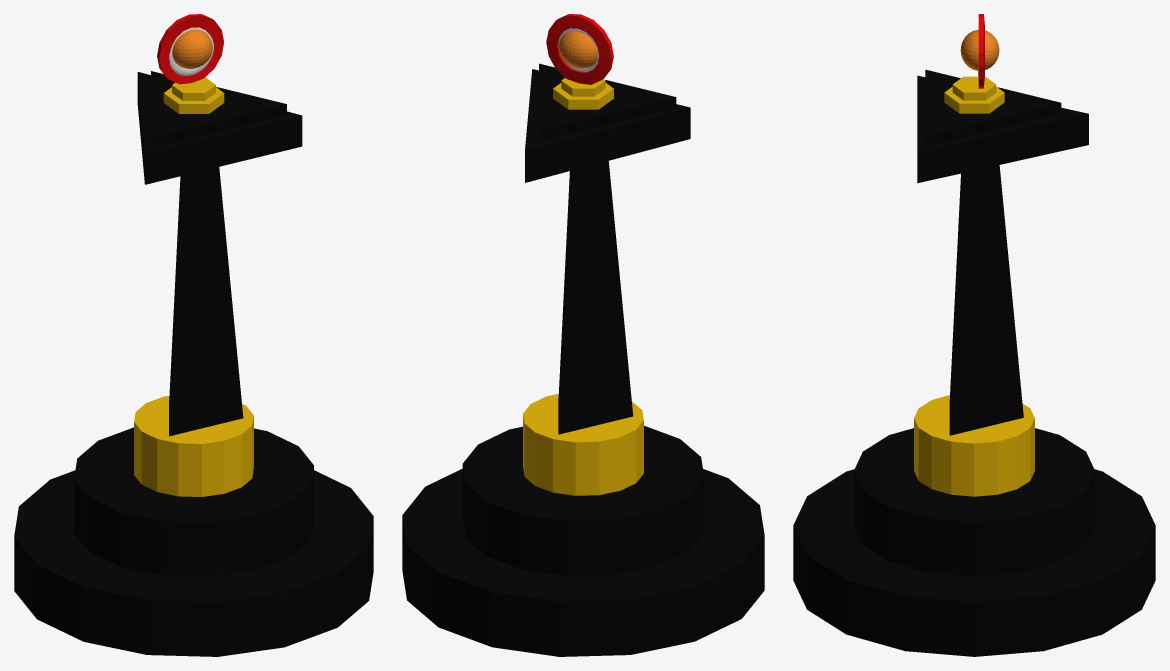
Rendered from tour_de_l_enfer.fbx.
The picture shows the model from 3 angles, left to right: view 1: azimuth 30°, elevation 25°; view 2: azimuth 150°, elevation 25°; view 3: azimuth 270°, elevation 25°; orthographic projection.
Parts seen in each view (by area): view 1: Torus; view 2: Torus; view 3: Torus.
Boxes of the visible parts, <box> form: Torus: <box>14,14,373,656</box>; Torus: <box>402,14,764,656</box>; Torus: <box>793,14,1155,656</box>.
Size of the model in its own units: 600 by 1028 by 600.
